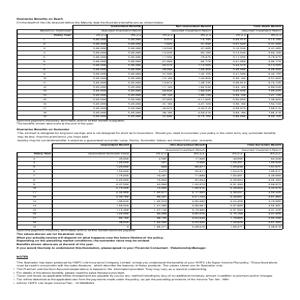table: (15, 24, 284, 120), (15, 144, 283, 230)
text: (15, 255, 279, 285), (16, 121, 276, 143), (16, 232, 209, 250), (16, 15, 165, 25)
